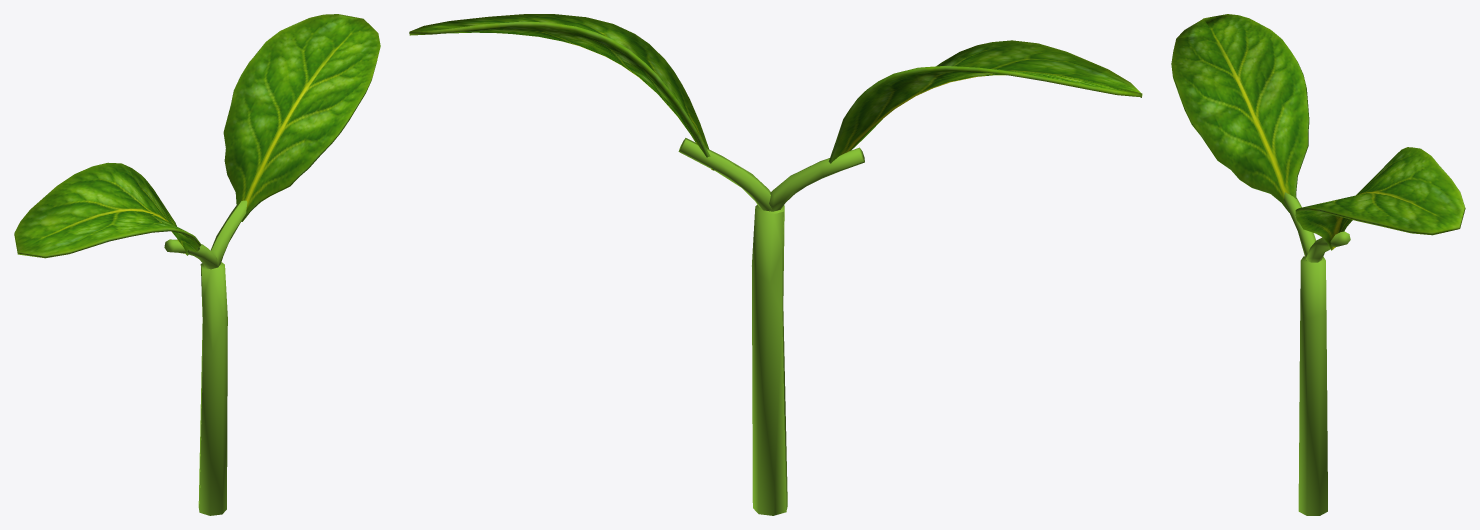
Rendered from NP_WaterSpinach_Sprout_LOD1.fbx.
The picture shows the model from 3 angles, left to right: view 1: azimuth 30°, elevation 25°; view 2: azimuth 150°, elevation 25°; view 3: azimuth 270°, elevation 25°; orthographic projection. The views are drawn at different scales.
Visible parts, largest first — view 1: NP_WaterSpinach_Sprout; view 2: NP_WaterSpinach_Sprout; view 3: NP_WaterSpinach_Sprout.
Boxes of the visible parts, x1,y1,x2,y2 form: NP_WaterSpinach_Sprout: [14, 14, 380, 515]; NP_WaterSpinach_Sprout: [409, 14, 1142, 515]; NP_WaterSpinach_Sprout: [1171, 14, 1465, 515].
Size of the model in its own units: 29.52 by 24.28 by 15.52.
